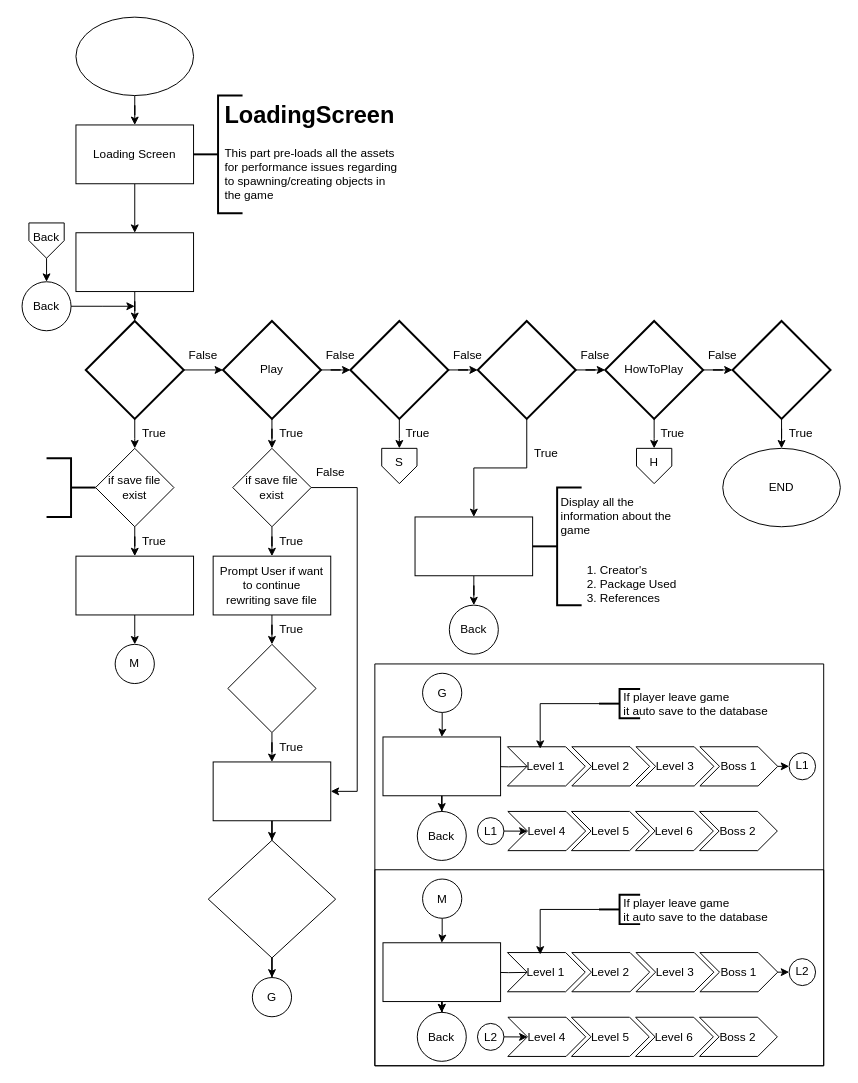
Some shapes in this 858 by 1083 pixel diagram are drawn without their labels. Each missing label, with the box of its shape:
Character Selection: (212, 761, 331, 821)
Colors Red,Blue,Green, Yellow,Pink,Purple, Orange: (207, 839, 336, 958)
Continue: (84, 319, 184, 419)
Continue Game: (382, 942, 501, 1002)
Credits: (476, 319, 576, 419)
Credits Screen: (414, 516, 533, 576)
Exit: (731, 319, 831, 419)
If save does not exist do nothing: (45, 457, 96, 517)
Main Menu Screen: (75, 232, 194, 292)
Overwrite save to new game?: (227, 643, 316, 733)
Retrieve Player Data / Retrieve Level Data: (75, 555, 194, 615)
Settings: (349, 319, 449, 419)
START: (75, 16, 194, 96)
Start Game: (382, 736, 501, 796)
